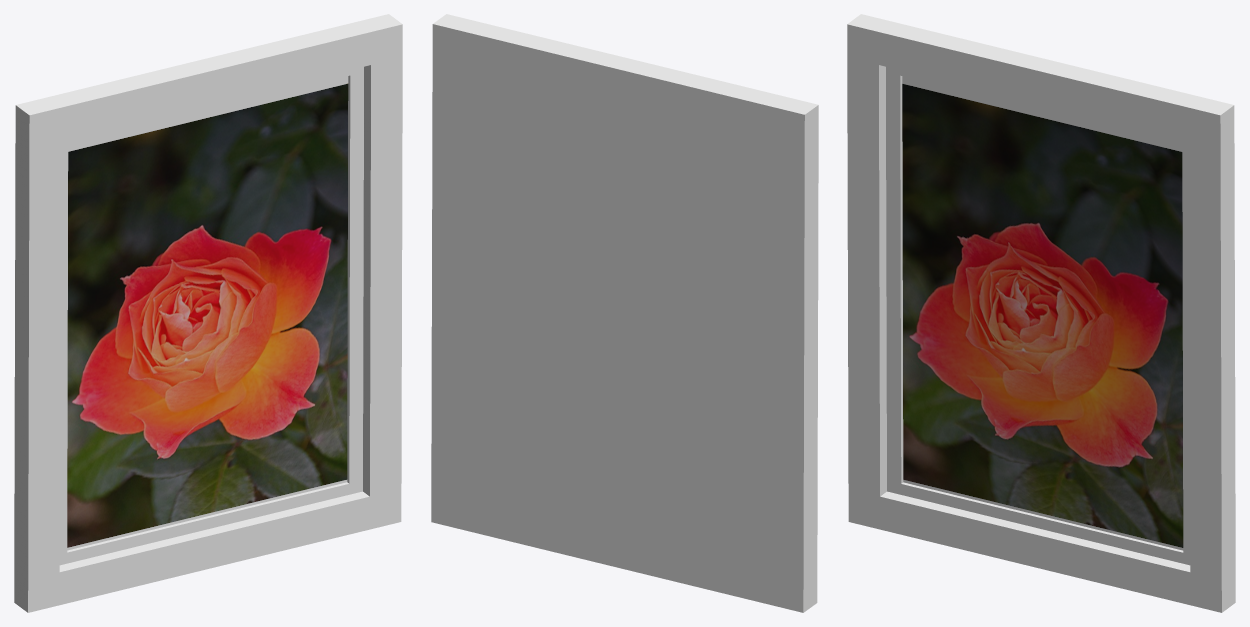
Rendered from Picture 3.FBX.
3 renders of one model, left to right at view 1: azimuth 30°, elevation 25°; view 2: azimuth 150°, elevation 25°; view 3: azimuth 330°, elevation 25°, orthographic.
Parts seen in each view (by area): view 1: picture 3; view 2: picture 3; view 3: picture 3.
Boxes of the visible parts, x1,y1,x2,y2 form: picture 3: (14, 14, 402, 612); picture 3: (431, 14, 818, 612); picture 3: (847, 14, 1235, 612).
Size of the model in its own units: 53.24 by 67.97 by 3.79.
1 material, 1 textured.
